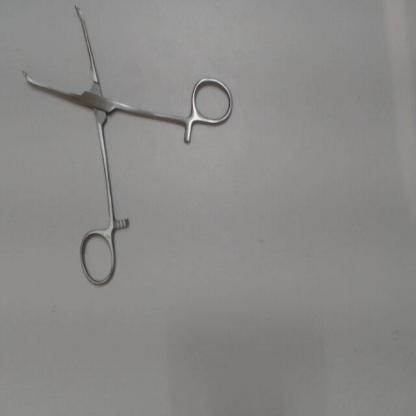Allis Tissue Forceps: (15, 2, 239, 292)
